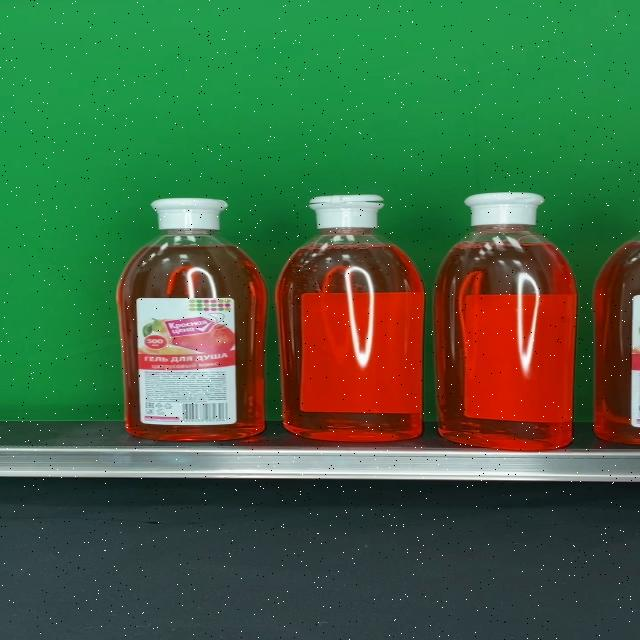Bottle: (275, 194, 424, 442), (434, 193, 577, 450), (117, 197, 266, 440)
Cap: (464, 193, 546, 226), (308, 195, 385, 229), (151, 197, 229, 230)
